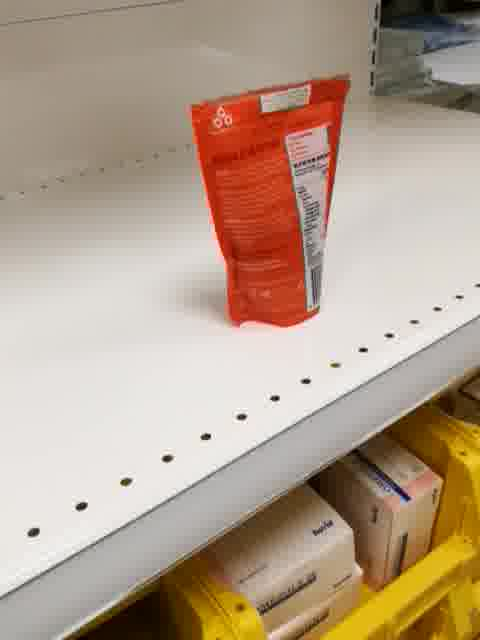whitechia: (188, 72, 354, 331)
